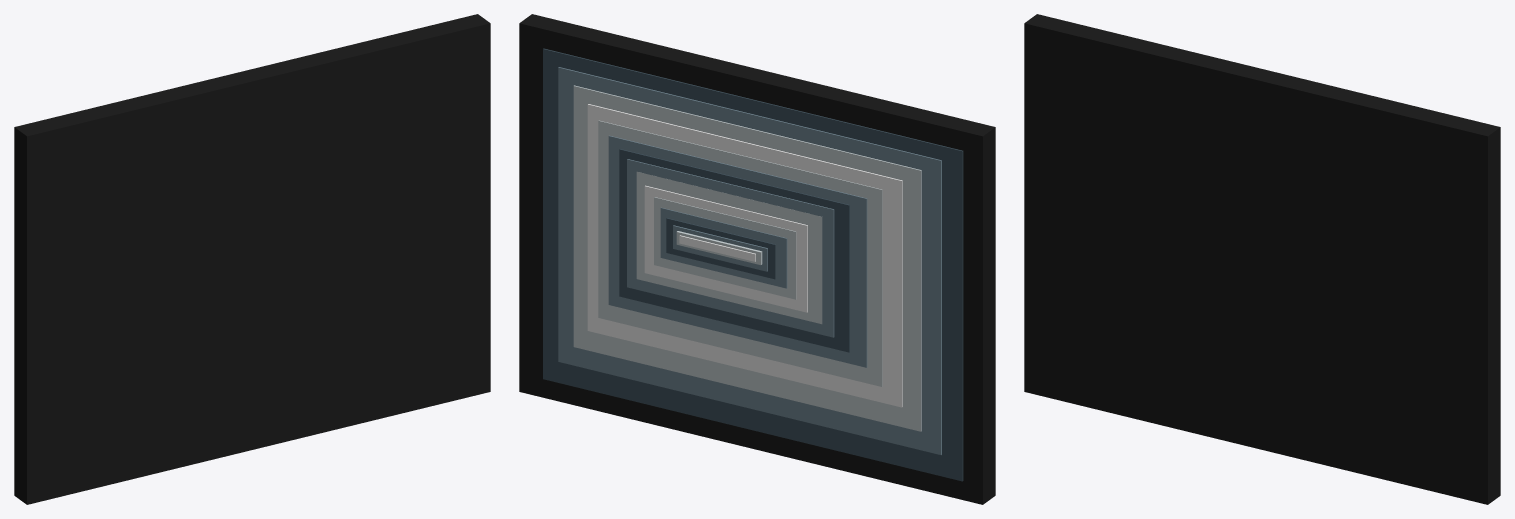
The model's file is Op Art by Ryan Murray - 1d1jTNZHwAS.glb.
3 views of the same model, side by side, from view 1: azimuth 30°, elevation 25°; view 2: azimuth 150°, elevation 25°; view 3: azimuth 330°, elevation 25° (orthographic).
Parts seen in each view (by area): view 1: Node; view 2: Node; view 3: Node.
Boxes of the visible parts, left/top/right/bottom form: Node: left=14, top=14, right=490, bottom=504; Node: left=519, top=14, right=995, bottom=504; Node: left=1024, top=14, right=1500, bottom=504.
Bounding box in the file's own units: 3.79 × 2.88 × 0.32.
